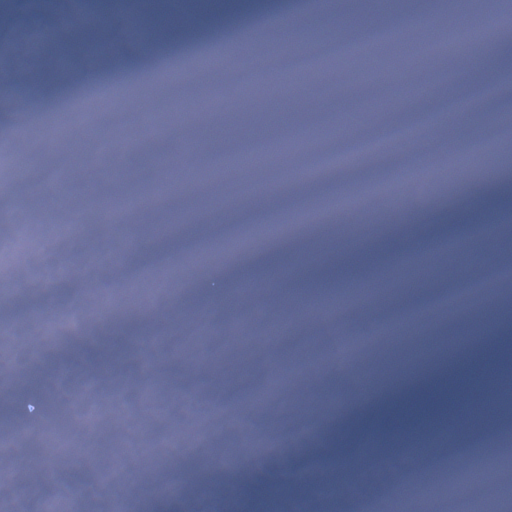Iceberg: (28, 404, 34, 411), (212, 283, 213, 285)
